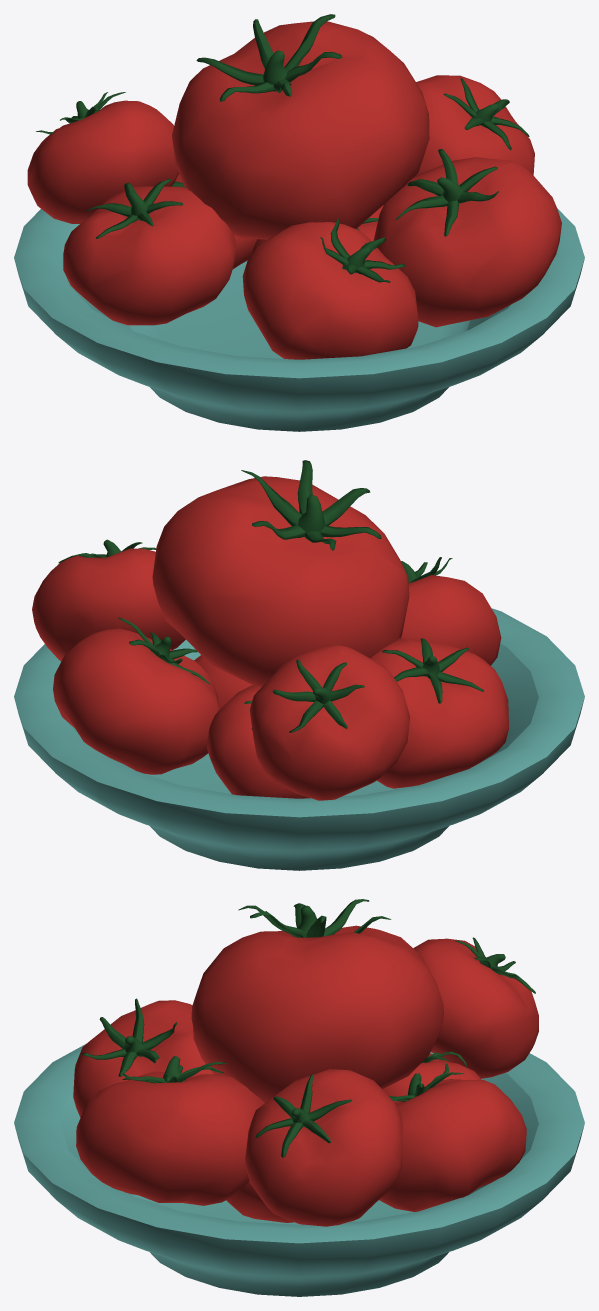
Rendered from CI_031_tomatoes.glb.
3 renders of one model, top to bottom at view 1: azimuth 30°, elevation 25°; view 2: azimuth 150°, elevation 25°; view 3: azimuth 270°, elevation 25°, orthographic.
Parts seen in each view (by area): view 1: plate, tomato_1, tomato_2, tomato_3, tomato_4, tomato_7, tomato_9, tomato_6; view 2: plate, tomato_1, tomato_7, tomato_8, tomato_4, tomato_9, tomato_3, tomato_6, tomato_5; view 3: plate, tomato_1, tomato_2, tomato_9, tomato_8, tomato_7, tomato_3, tomato_6, tomato_5.
Part boxes in pixels (x1=…): plate: x1=14, y1=208, x2=584, y2=431; tomato_1: x1=172, y1=14, x2=429, y2=239; tomato_2: x1=373, y1=149, x2=561, y2=327; tomato_3: x1=242, y1=218, x2=418, y2=359; tomato_4: x1=63, y1=179, x2=236, y2=325; tomato_7: x1=27, y1=92, x2=178, y2=223; tomato_9: x1=416, y1=75, x2=534, y2=175; tomato_6: x1=171, y1=173, x2=257, y2=268; plate: x1=14, y1=608, x2=584, y2=870; tomato_1: x1=152, y1=460, x2=409, y2=687; tomato_7: x1=250, y1=645, x2=409, y2=800; tomato_8: x1=53, y1=617, x2=219, y2=774; tomato_4: x1=370, y1=638, x2=508, y2=788; tomato_9: x1=32, y1=539, x2=185, y2=661; tomato_3: x1=401, y1=557, x2=501, y2=665; tomato_6: x1=206, y1=685, x2=310, y2=798; tomato_5: x1=194, y1=655, x2=252, y2=708; plate: x1=14, y1=1043, x2=584, y2=1296; tomato_1: x1=191, y1=899, x2=443, y2=1102; tomato_2: x1=76, y1=1056, x2=264, y2=1205; tomato_9: x1=245, y1=1069, x2=402, y2=1226; tomato_8: x1=379, y1=1063, x2=526, y2=1211; tomato_7: x1=413, y1=937, x2=538, y2=1078; tomato_3: x1=73, y1=998, x2=213, y2=1117; tomato_6: x1=382, y1=1051, x2=480, y2=1102; tomato_5: x1=226, y1=1181, x2=293, y2=1222.
Bounding box in the file's own units: 0.5974 × 0.381 × 0.5974.
